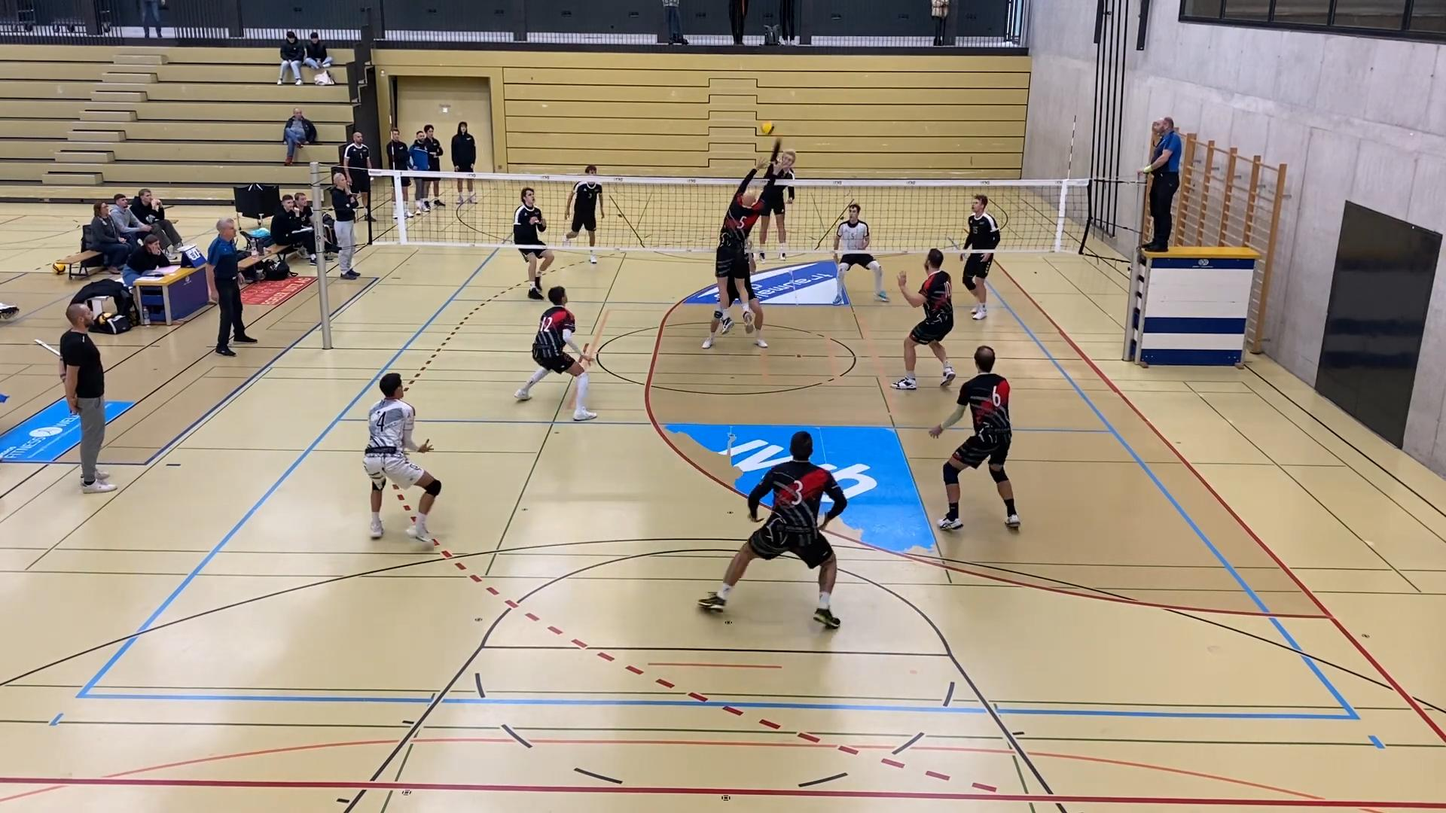Attack: (754, 113, 796, 270)
Block: (703, 153, 778, 334)
Player: (698, 431, 846, 628), (929, 346, 1020, 529), (363, 373, 441, 541), (515, 286, 596, 421), (891, 248, 955, 390), (833, 202, 888, 303), (961, 194, 1000, 320), (513, 187, 554, 300), (565, 181, 603, 263)
ball: (759, 120, 776, 138)
